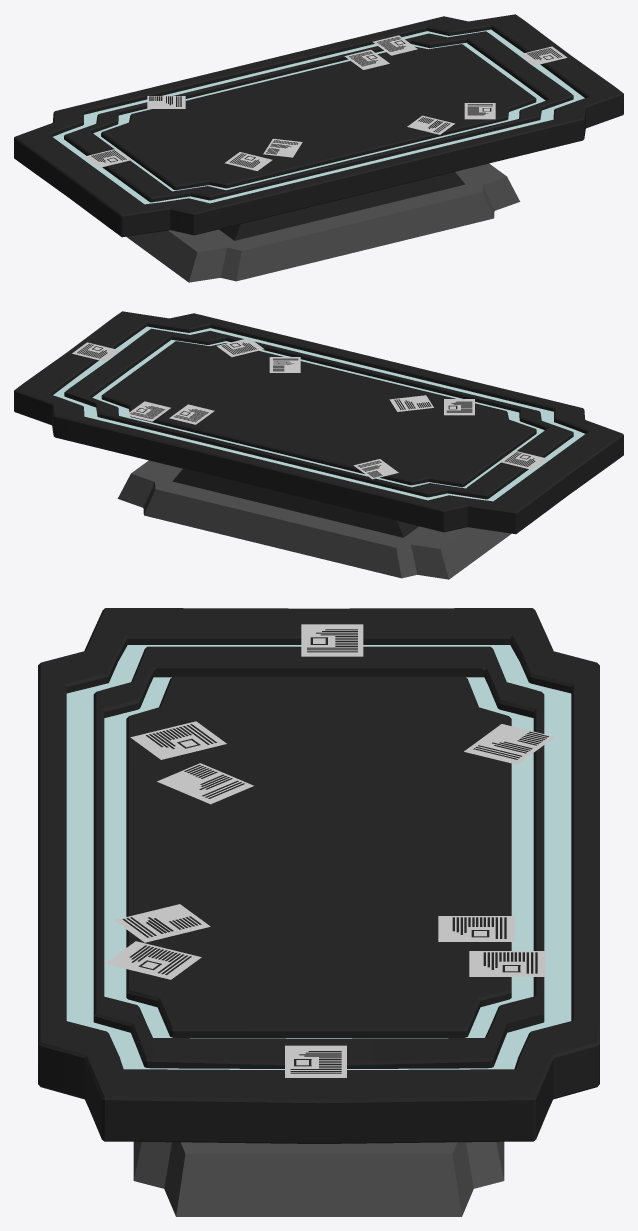
The model's file is Big_Table.fbx.
3 renders of one model, top to bottom at view 1: azimuth 30°, elevation 25°; view 2: azimuth 150°, elevation 25°; view 3: azimuth 270°, elevation 25°, orthographic. The views are drawn at different scales.
Visible parts, largest first — view 1: polySurface651, polySurface653, polySurface313, polySurface652, polySurface658, polySurface657, pCube110, pCube116, pCube112, pCube127, pCube113, pCube117 (+3 smaller); view 2: polySurface651, polySurface653, polySurface313, polySurface652, polySurface658, polySurface657, pCube110, pCube111, pCube117, pCube116, pCube127, pCube115 (+3 smaller); view 3: polySurface651, polySurface653, polySurface658, polySurface652, polySurface313, pCube117, pCube112, pCube111, pCube113, pCube110, pCube114, pCube116 (+2 smaller).
Part boxes in pixels (x1,y1,x2,y2): polySurface651: (101,44,536,190); polySurface653: (14,14,623,237); polySurface313: (126,163,520,282); polySurface652: (64,31,573,202); polySurface658: (53,29,584,204); polySurface657: (219,172,465,240); pCube110: (464,103,495,119); pCube116: (519,46,567,65); pCube112: (407,115,454,134); pCube127: (344,49,389,69); pCube113: (224,152,272,171); pCube117: (83,149,131,167); polySurface651: (101,341,536,487); polySurface653: (14,311,623,534); polySurface313: (117,460,511,579); polySurface652: (64,328,573,499); polySurface658: (53,326,584,501); polySurface657: (172,469,418,537); pCube110: (217,338,264,356); pCube111: (389,395,433,411); pCube117: (500,450,547,469); pCube116: (72,342,119,361); pCube127: (169,404,214,424); pCube115: (126,401,170,421); polySurface651: (126,676,511,1037); polySurface653: (38,608,599,1143); polySurface658: (66,645,571,1069); polySurface652: (93,646,544,1068); polySurface313: (133,1141,504,1216); pCube117: (301,624,363,656); pCube112: (114,904,210,942); pCube111: (157,763,253,804); pCube113: (130,721,226,759); pCube110: (105,941,201,979); pCube114: (464,724,554,764); pCube116: (285,1045,346,1077).
Bounding box in the file's own units: 13.33 × 2.69 × 6.44.
